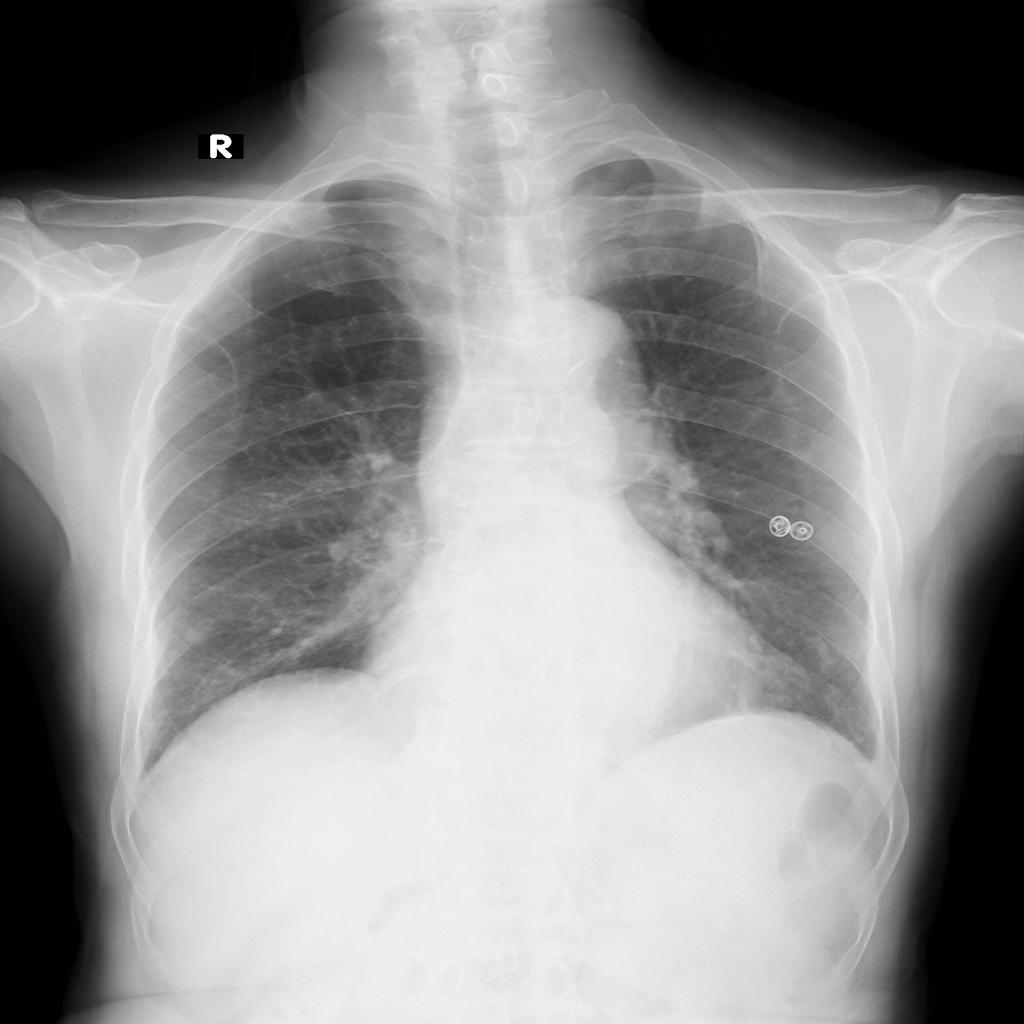Nodule: (176, 631, 210, 649)
